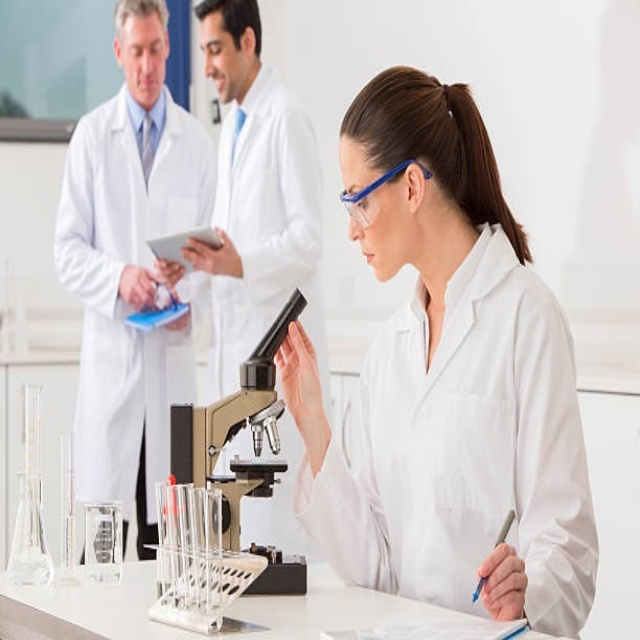Gafas: (340, 160, 431, 230)
Sin_gafas: (125, 38, 163, 63), (205, 39, 235, 58)
Sin_guantes: (271, 316, 326, 433), (474, 540, 528, 622), (180, 225, 239, 279), (114, 259, 154, 307), (150, 255, 187, 298), (159, 303, 191, 332)
Sin_mascara: (132, 74, 164, 116), (209, 66, 236, 104)
